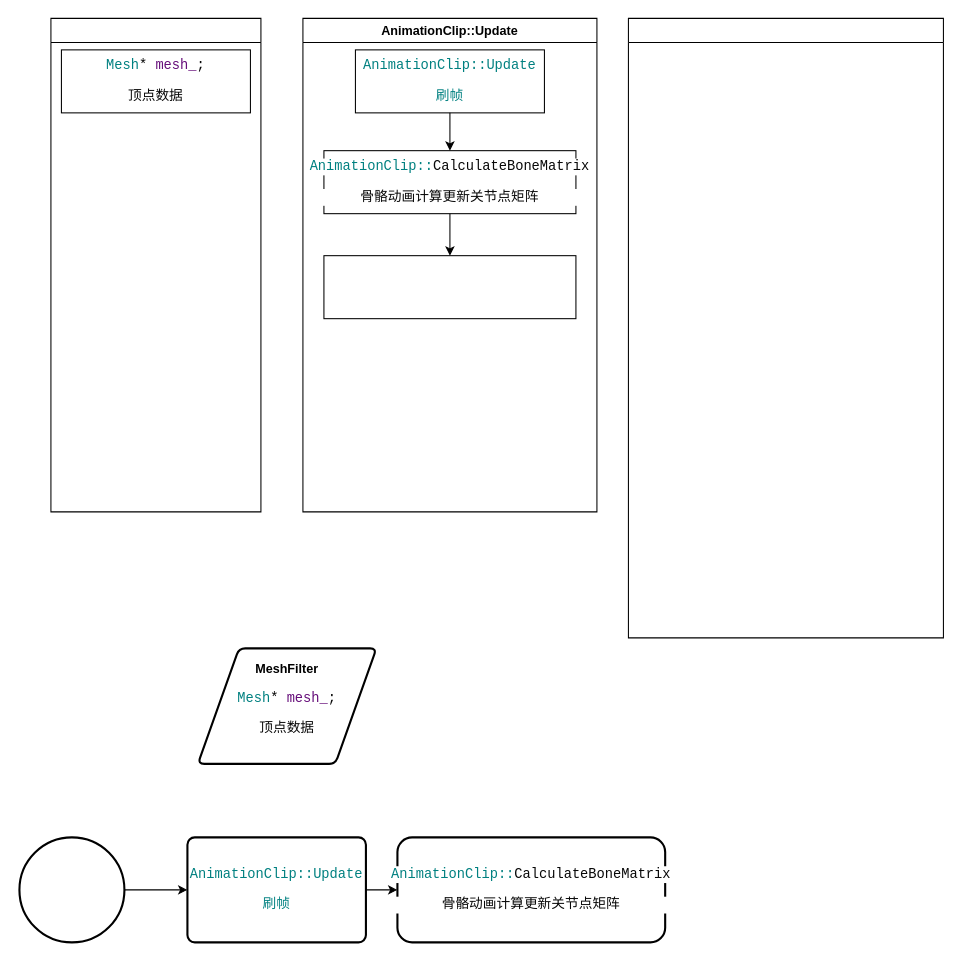
This 962x962 diagram has some shape labels left out. The box of each missing label's shape, as (x1, y1, x2, y2) in pixels:
AnimationClip:: CalculateBoneMatrix: (323, 255, 576, 319)
MeshFilter: (50, 17, 261, 512)
SkinnedMeshRenderer::Update: (627, 17, 943, 638)
Update 刷帧: (18, 836, 125, 943)
